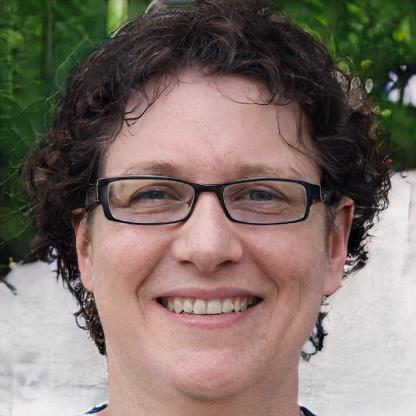glasses: (86, 172, 321, 228)
